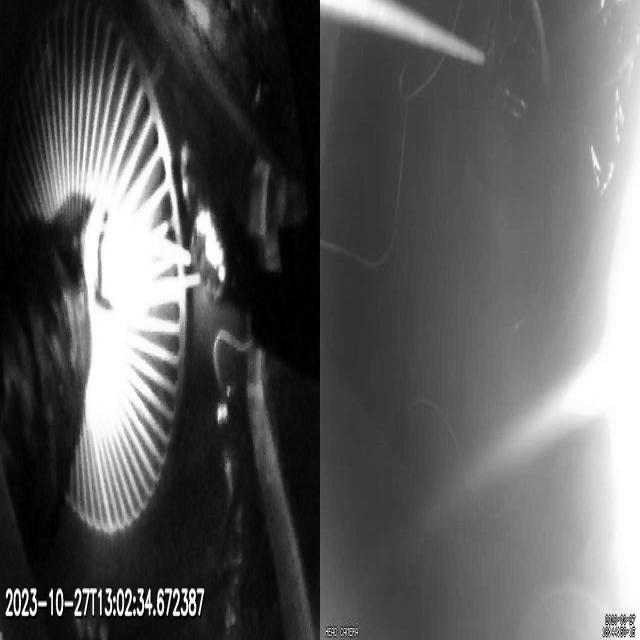head: (89, 196, 152, 316)
